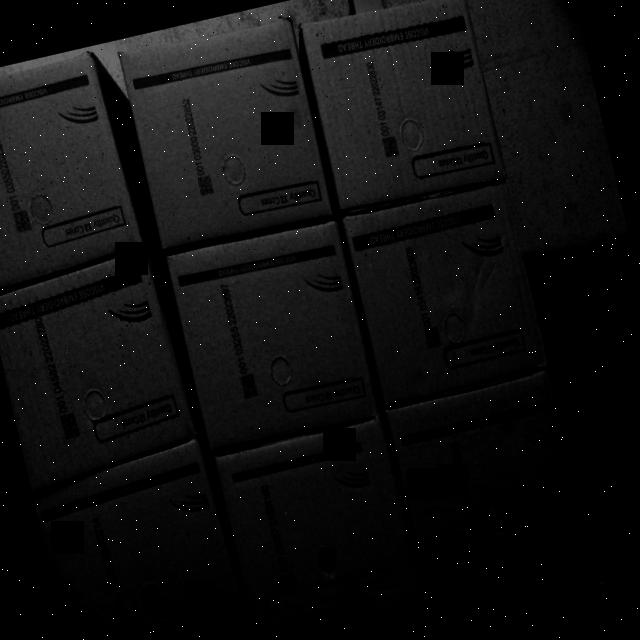box: (158, 207, 386, 458), (112, 6, 337, 254), (382, 362, 598, 606), (208, 411, 427, 640), (336, 174, 548, 408), (28, 436, 259, 640), (291, 0, 508, 215), (0, 253, 195, 480), (0, 46, 145, 291)
